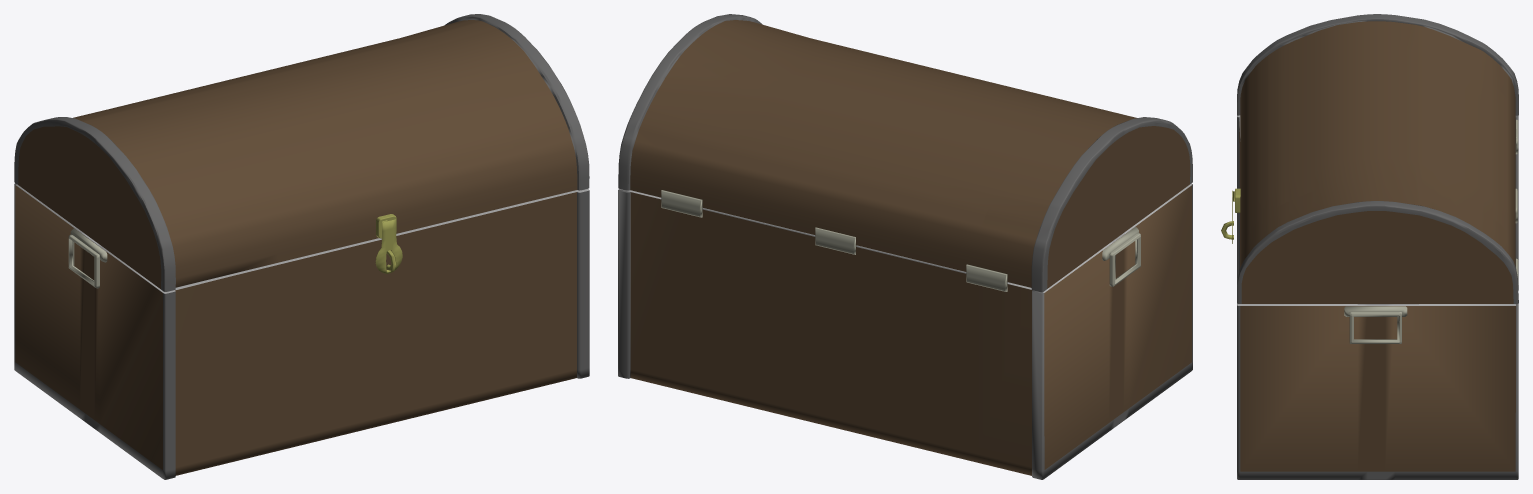
The model's file is BaulArreglado.fbx.
The picture shows the model from 3 angles, left to right: view 1: azimuth 30°, elevation 25°; view 2: azimuth 150°, elevation 25°; view 3: azimuth 270°, elevation 25°; orthographic projection. The views are drawn at different scales.
Parts seen in each view (by area): view 1: Cofre1; view 2: Cofre1; view 3: Cofre1.
Boxes of the visible parts, x1,y1,x2,y2 form: Cofre1: (14, 14, 589, 479); Cofre1: (618, 14, 1192, 479); Cofre1: (1221, 14, 1518, 479).
Bounding box in the file's own units: 80.2 × 50.84 × 49.97.
